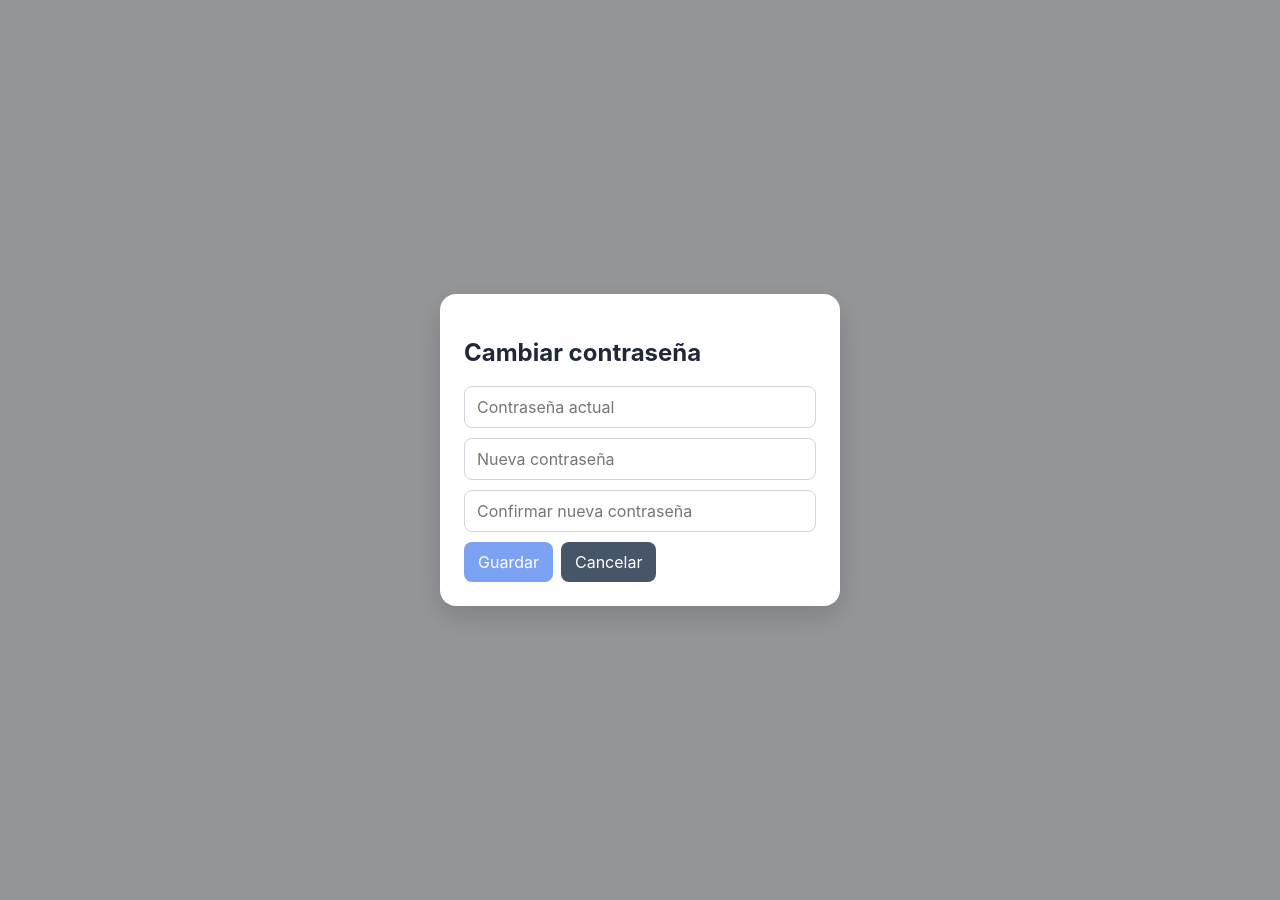
it: ChangePasswordModal › shows error when password is too short
Type "old" into the password field with placeholder "Contraseña actual".
click(640, 407); type("old")  # box left=464, top=386, right=816, bottom=428
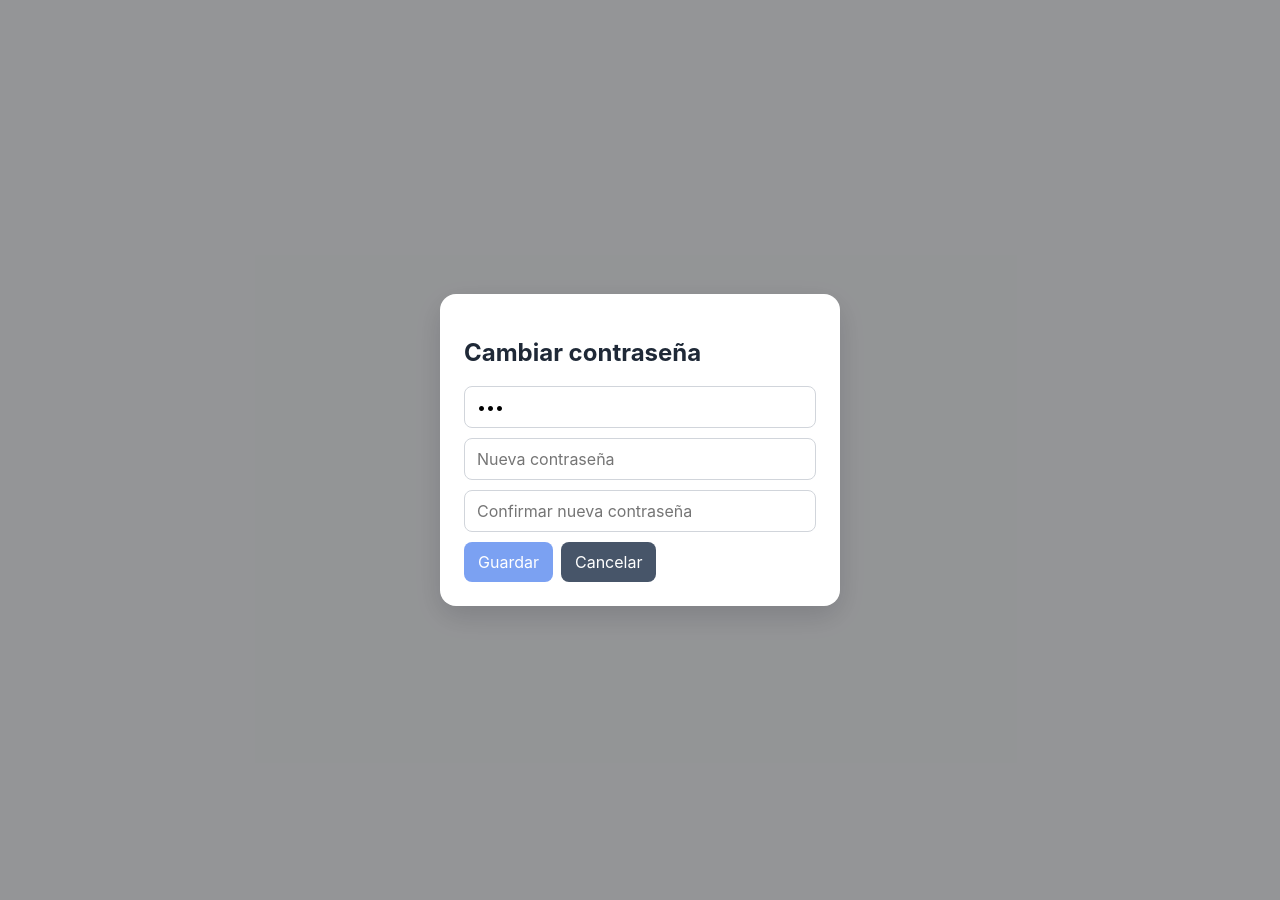
Type "ab" into the password field with placeholder "Nueva contraseña".
click(640, 459); type("ab")  # box left=464, top=438, right=816, bottom=480
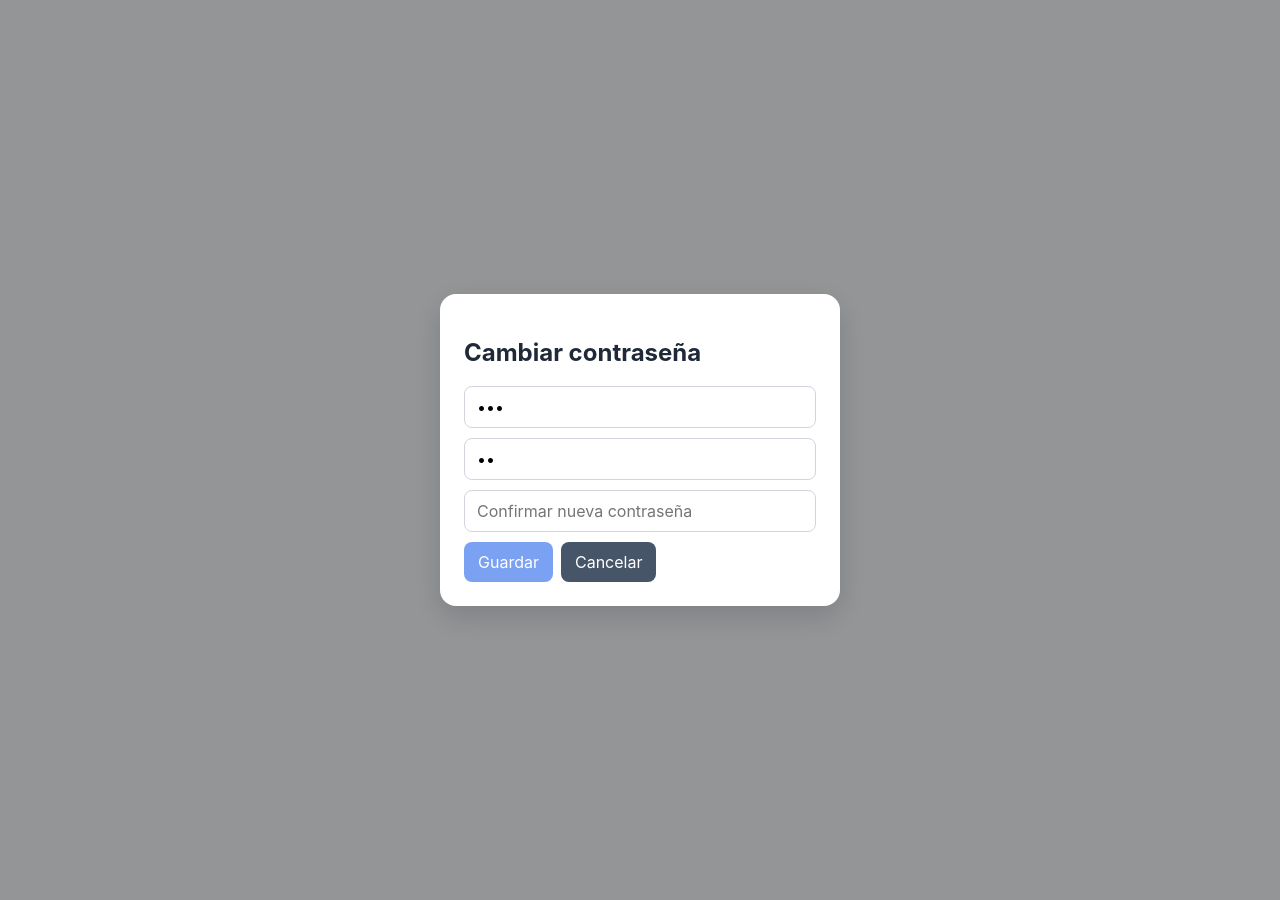
Type "ab" into the password field with placeholder "Confirmar nueva contraseña".
click(640, 511); type("ab")  # box left=464, top=490, right=816, bottom=532
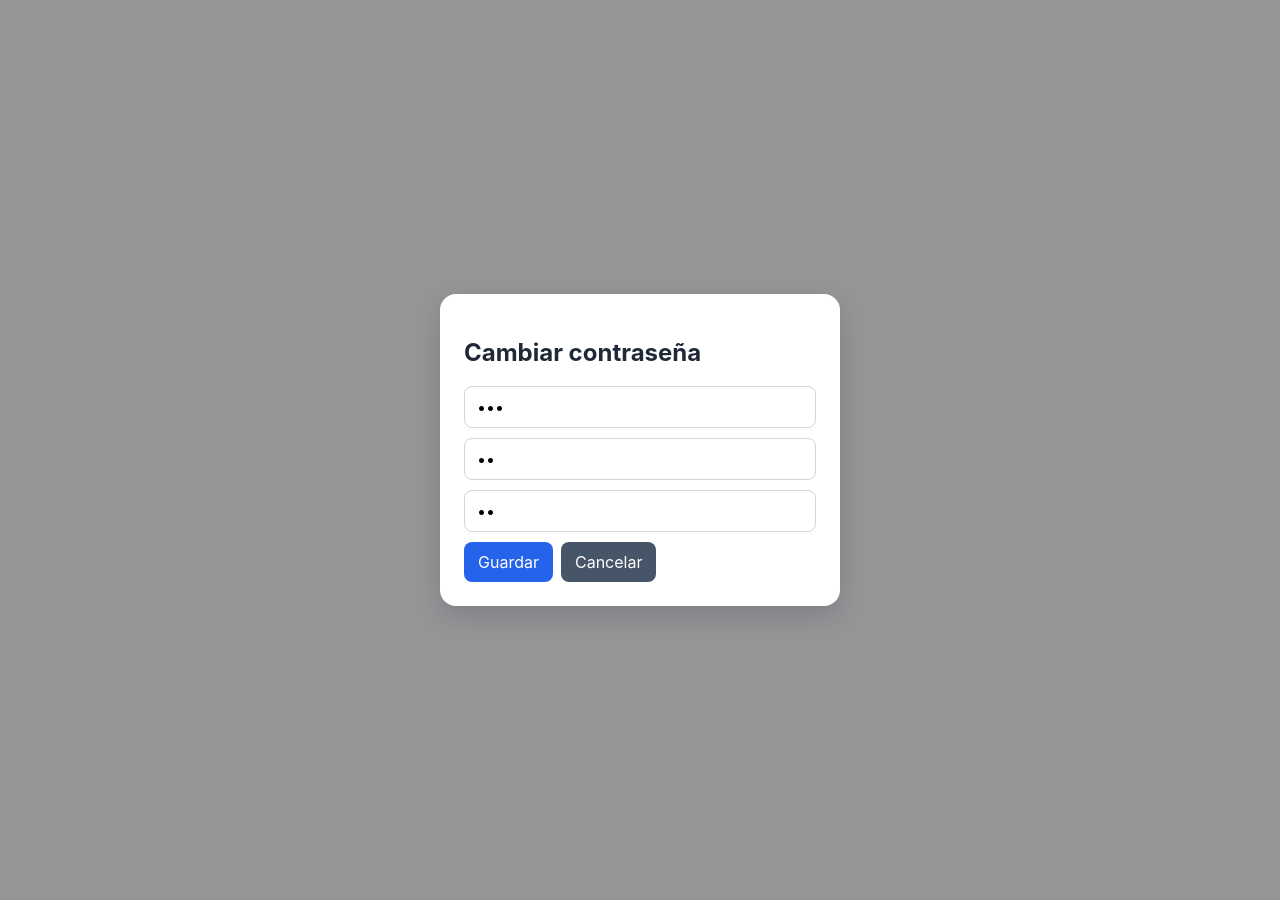
Click the button "Guardar".
click(508, 562)  # box left=464, top=542, right=553, bottom=582
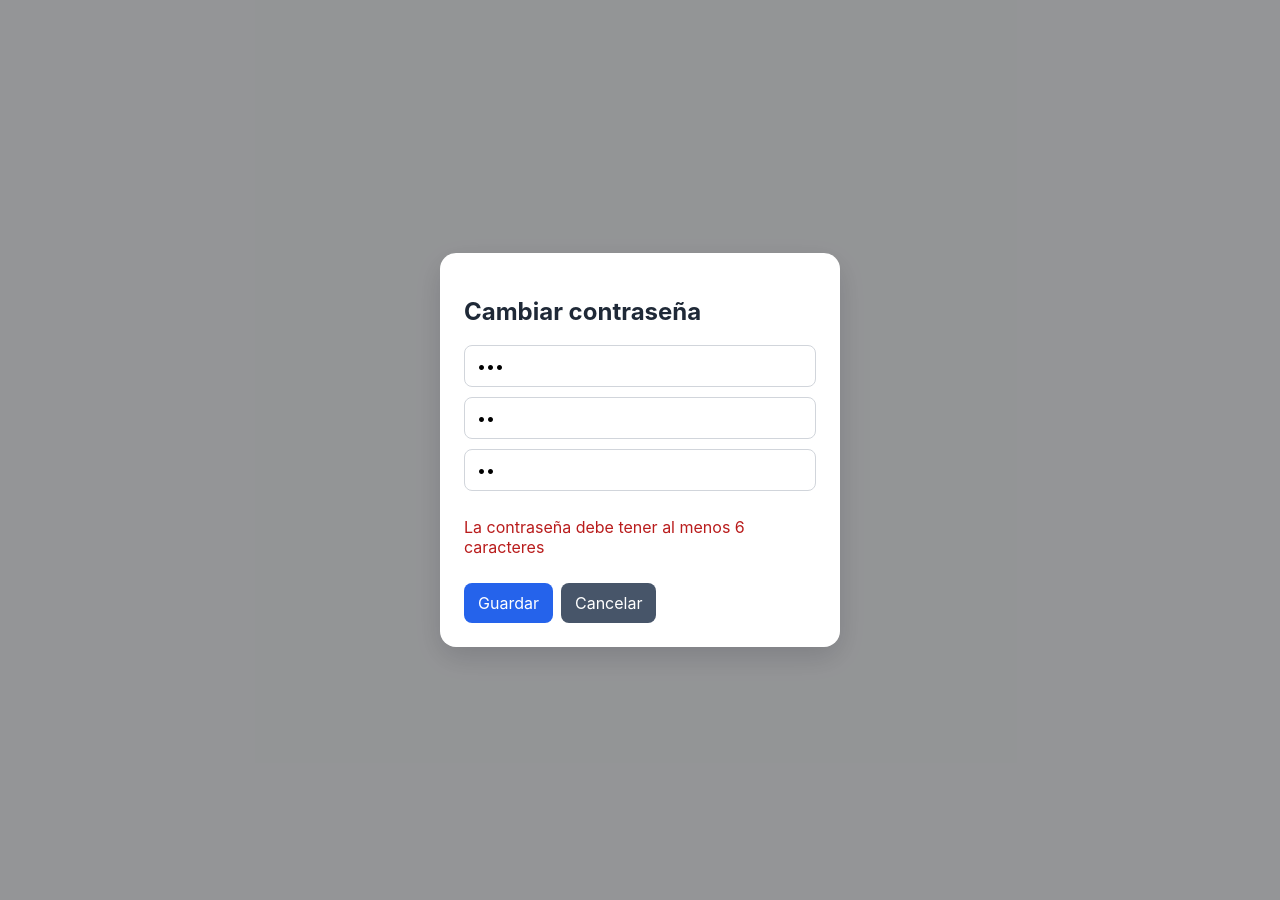
Expected: the text "La contraseña debe tener al menos 6 caracteres" is shown, left=464, top=517, right=745, bottom=557
